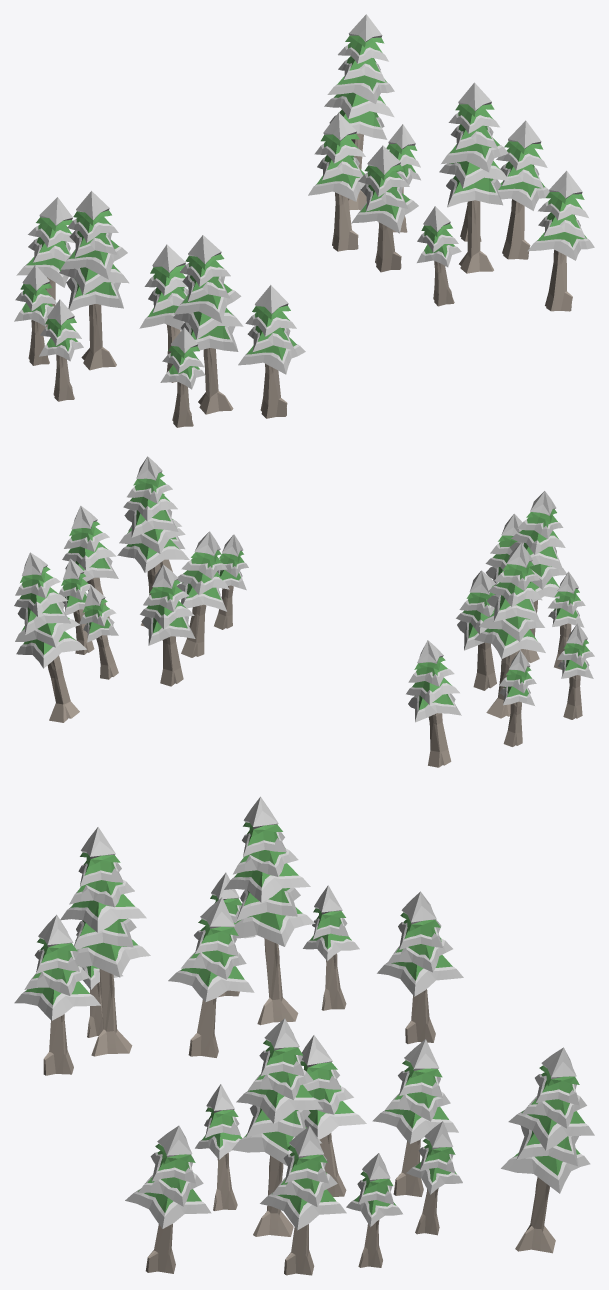
Rendered from Start.glb.
3 renders of one model, top to bottom at view 1: azimuth 30°, elevation 25°; view 2: azimuth 150°, elevation 25°; view 3: azimuth 270°, elevation 25°, orthographic. The views are drawn at different scales.
Visible parts, largest first — view 1: pine_tall_snowy_01.003, pine_tall_snowy_01, pine_tall_snowy_01.002, pine_tall_snowy_01.001, pine_medium_snowy_01.003, pine_medium_snowy_01.001, pine_medium_snowy_01, pine_medium_snowy_01.008, pine_medium_snowy_01.007, pine_medium_snowy_01.005, pine_medium_snowy_01.004, pine_small_snowy_01.003 (+4 smaller); view 2: pine_tall_snowy_01.001, pine_tall_snowy_01, pine_tall_snowy_01.003, pine_medium_snowy_01.005, pine_medium_snowy_01, pine_tall_snowy_01.002, pine_medium_snowy_01.008, pine_medium_snowy_01.004, pine_medium_snowy_01.007, pine_small_snowy_01.006, pine_small_snowy_01.003, pine_small_snowy_01.004 (+4 smaller); view 3: pine_tall_snowy_01, pine_tall_snowy_01.002, pine_tall_snowy_01.001, pine_tall_snowy_01.003, pine_medium_snowy_01.001, pine_medium_snowy_01.004, pine_medium_snowy_01.005, pine_medium_snowy_01.007, pine_medium_snowy_01.003, pine_medium_snowy_01, pine_medium_snowy_01.008, pine_small_snowy_01.004 (+5 smaller).
Part boxes in pixels (bbox=[...]): pine_tall_snowy_01.003: bbox=[439, 82, 509, 273]; pine_tall_snowy_01: bbox=[59, 191, 129, 370]; pine_tall_snowy_01.002: bbox=[173, 235, 243, 414]; pine_tall_snowy_01.001: bbox=[324, 14, 394, 209]; pine_medium_snowy_01.003: bbox=[527, 170, 594, 311]; pine_medium_snowy_01.001: bbox=[238, 285, 305, 418]; pine_medium_snowy_01: bbox=[308, 112, 365, 251]; pine_medium_snowy_01.008: bbox=[351, 145, 418, 272]; pine_medium_snowy_01.007: bbox=[496, 120, 549, 259]; pine_medium_snowy_01.005: bbox=[16, 197, 74, 330]; pine_medium_snowy_01.004: bbox=[139, 244, 188, 382]; pine_small_snowy_01.003: bbox=[39, 299, 83, 401]; pine_tall_snowy_01.001: bbox=[14, 552, 86, 722]; pine_tall_snowy_01: bbox=[474, 543, 545, 718]; pine_tall_snowy_01.003: bbox=[117, 456, 189, 626]; pine_medium_snowy_01.005: bbox=[406, 640, 461, 767]; pine_medium_snowy_01: bbox=[140, 564, 195, 686]; pine_tall_snowy_01.002: bbox=[503, 491, 566, 662]; pine_medium_snowy_01.008: bbox=[177, 531, 229, 657]; pine_medium_snowy_01.004: bbox=[456, 570, 496, 690]; pine_medium_snowy_01.007: bbox=[62, 506, 118, 618]; pine_small_snowy_01.006: bbox=[79, 585, 118, 679]; pine_small_snowy_01.003: bbox=[557, 623, 594, 719]; pine_small_snowy_01.004: bbox=[499, 650, 536, 746]; pine_tall_snowy_01: bbox=[224, 796, 315, 1025]; pine_tall_snowy_01.002: bbox=[60, 827, 150, 1056]; pine_tall_snowy_01.001: bbox=[501, 1047, 594, 1253]; pine_tall_snowy_01.003: bbox=[232, 1018, 322, 1236]; pine_medium_snowy_01.001: bbox=[14, 914, 100, 1075]; pine_medium_snowy_01.004: bbox=[168, 897, 254, 1057]; pine_medium_snowy_01.005: bbox=[377, 891, 463, 1043]; pine_medium_snowy_01.007: bbox=[260, 1126, 346, 1275]; pine_medium_snowy_01.003: bbox=[125, 1125, 211, 1273]; pine_medium_snowy_01: bbox=[372, 1039, 458, 1196]; pine_medium_snowy_01.008: bbox=[300, 1035, 366, 1196]; pine_small_snowy_01.004: bbox=[303, 885, 359, 1010].
Bounding box in the file's own units: 44.47 × 15.78 × 34.77.
